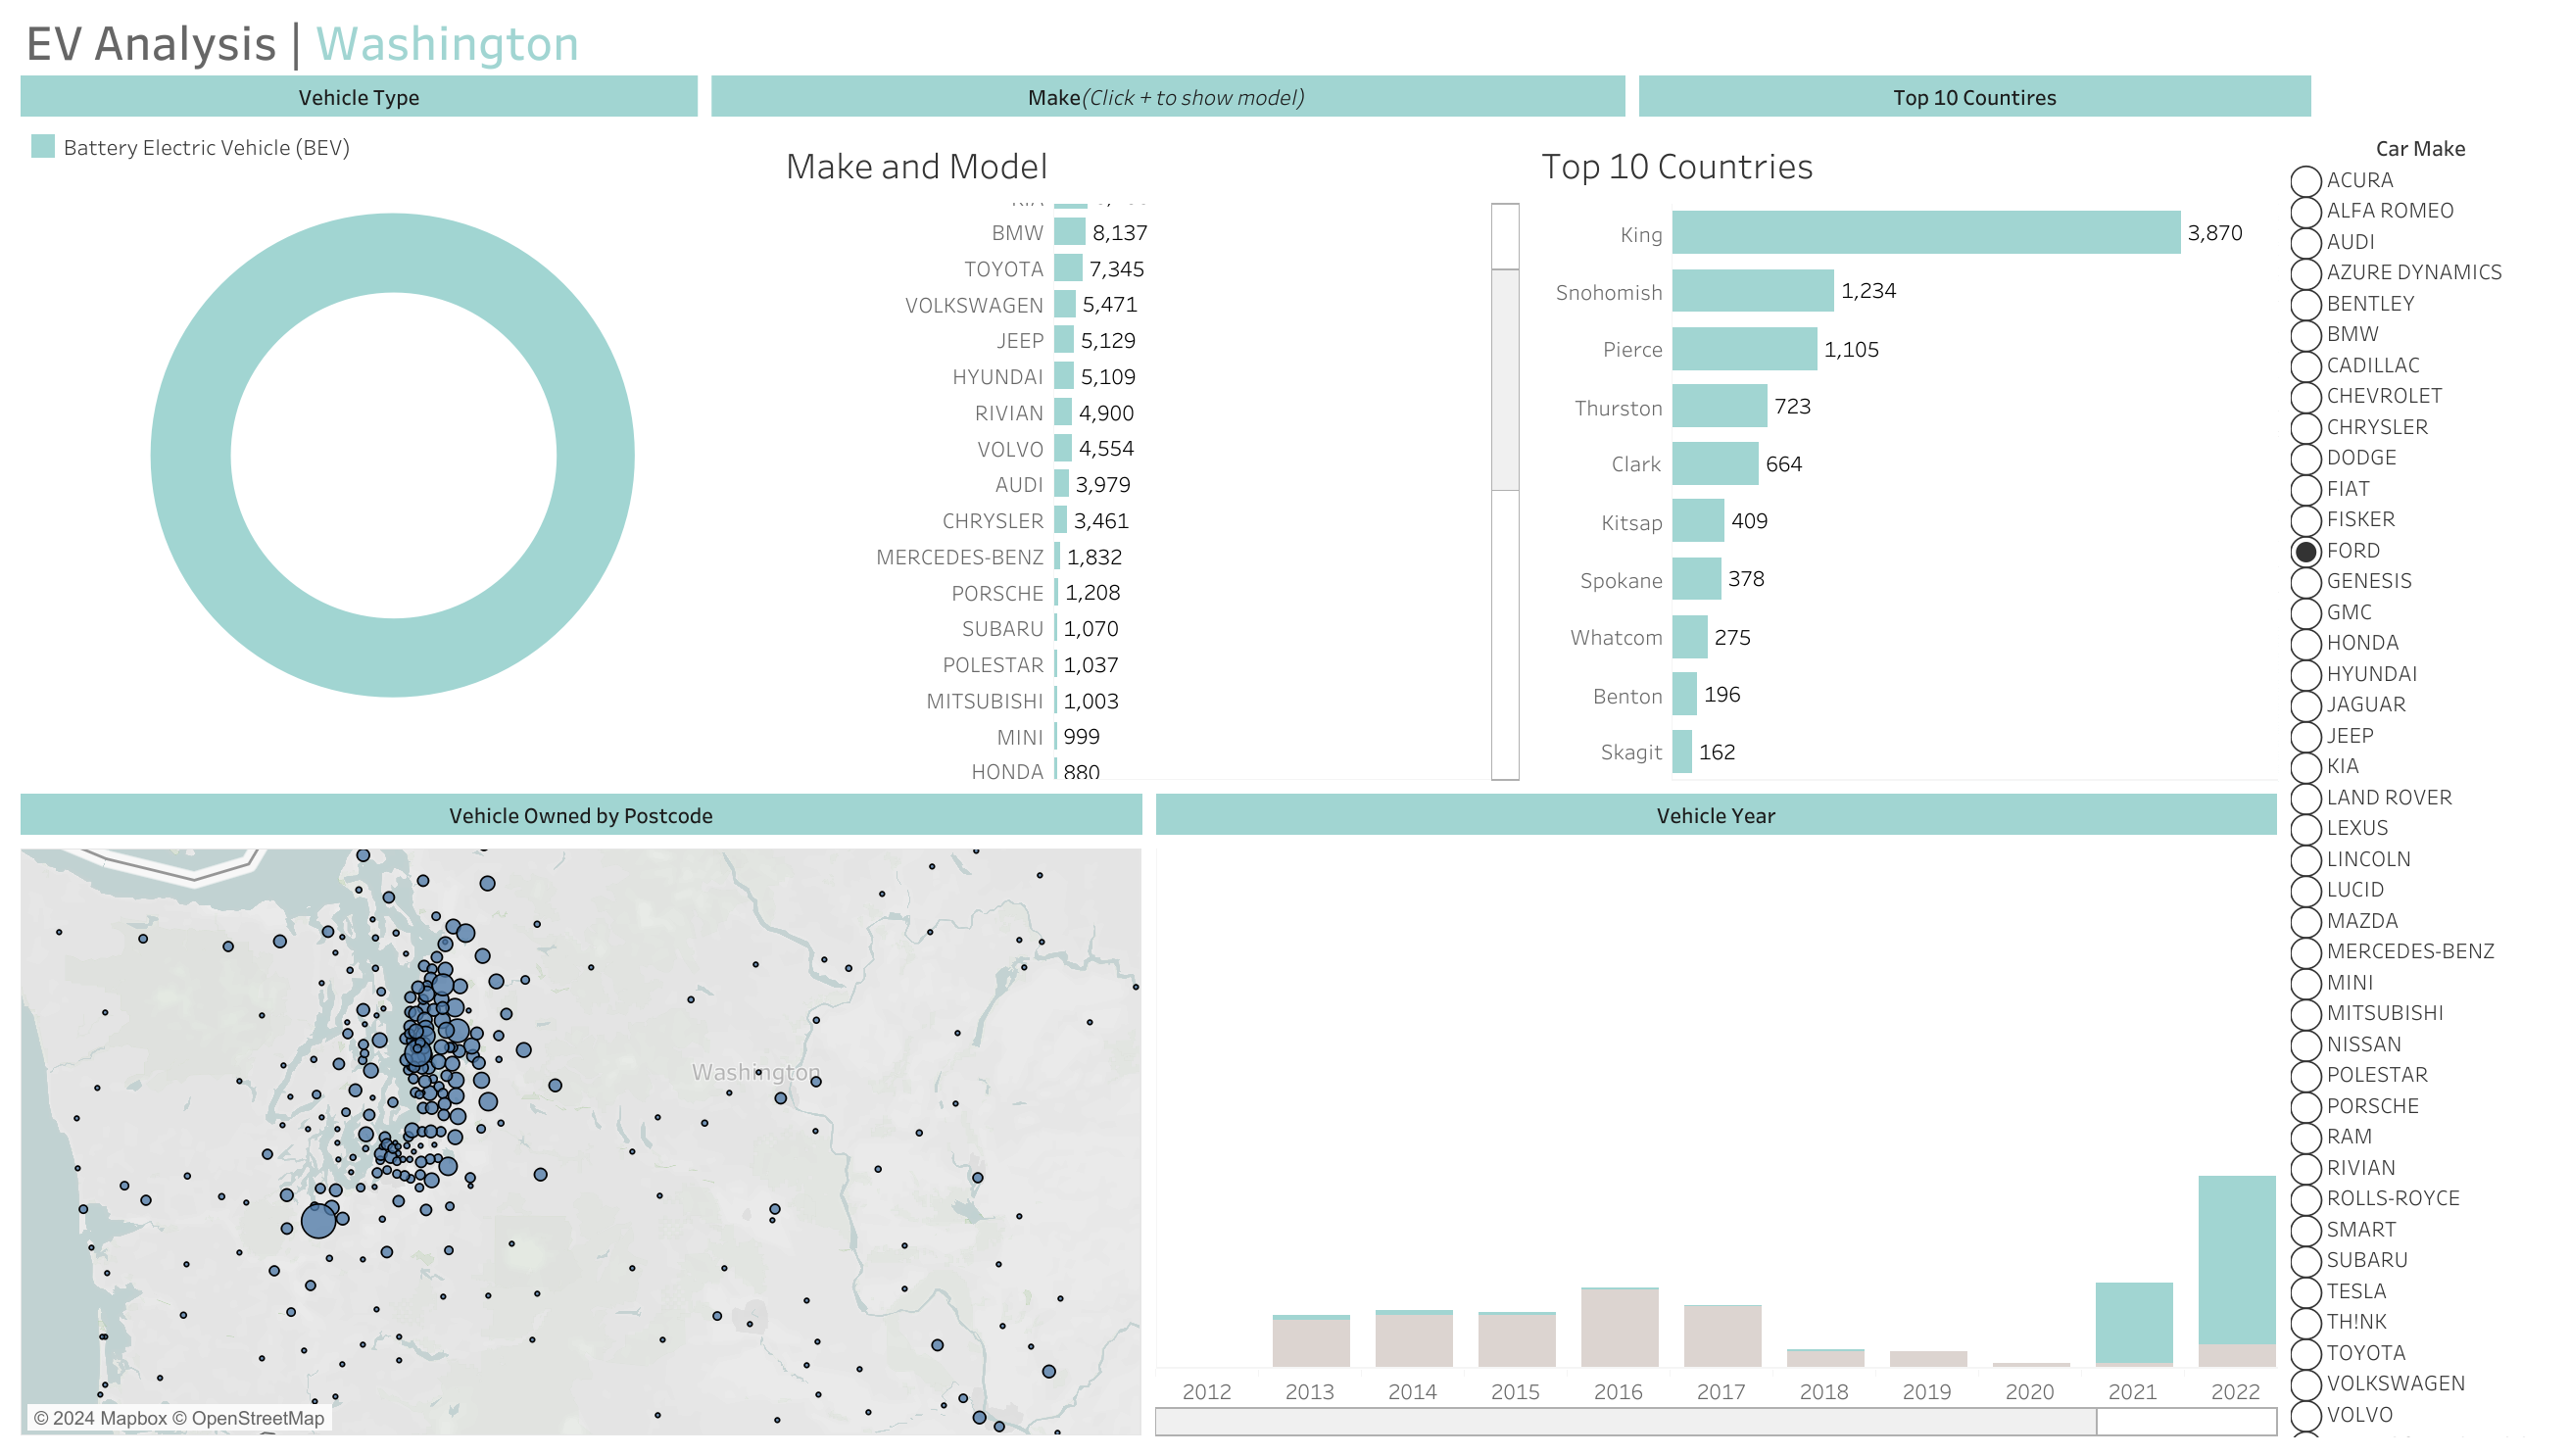

What the dashboard file says about the page in this screenshot:
{"tool":"tableau","page":{"name":"Dashboard 1","canvas":[1500,850],"ordinal":0},"visuals":[{"type":"text","box":[8,8,1484,32.4]},{"type":"text","box":[8,40.4,403.1,31.6]},{"type":"text","box":[411.1,40.4,540.4,31.6]},{"type":"text","box":[951.5,40.4,400.2,31.6]},{"type":"worksheet","title":"Vehicle Type Donut","mark":"Pie","rows":["Calculation_160440786701037568","Calculation_160440786701037568"],"box":[8,72,442,387]},{"type":"worksheet","title":"Make and Model","mark":"Automatic","rows":["Make"],"cols":["DOL Vehicle ID"],"box":[450,72,441,387]},{"type":"worksheet","title":"Top 10 Countries","mark":"Automatic","rows":["County"],"cols":["DOL Vehicle ID"],"box":[891,72,441,387]},{"type":"parameter","param":"[Parameters].[Parameter 1]","box":[1332,72,160,770]},{"type":"legend","title":"Vehicle Type Donut","param":"[federated.0wzga461d5au9513mcy6o1w0vsrx].[none:Electric Vehicle Type:nk]","box":[15,75,194,41]},{"type":"text","box":[8,458.6,661.9,32.1]},{"type":"text","box":[669.9,458.6,662.1,32.1]},{"type":"worksheet","title":"Map","mark":"Automatic","box":[8,490.7,661.9,351.3]},{"type":"worksheet","title":"Year and Type","mark":"Bar","rows":["DOL Vehicle ID"],"cols":["Model Year"],"box":[669.9,490.7,662.1,351.3]}]}

Visuals, with their boxes in screenshot pixels (x1, y1, x2, y2), scaled from the page's 1500x850 canvas onto the 2570x1456 screenshot:
text: 14,14,2556,70
text: 14,70,704,123
text: 704,70,1630,123
text: 1630,70,2316,123
"Vehicle Type Donut" worksheet (Pie marks): 14,123,771,786
"Make and Model" worksheet: 771,123,1527,786
"Top 10 Countries" worksheet: 1527,123,2282,786
parameter: 2282,123,2556,1442
"Vehicle Type Donut" legend: 25,128,358,199
text: 14,786,1147,841
text: 1147,786,2282,841
"Map" worksheet: 14,841,1147,1442
"Year and Type" worksheet (Bar marks): 1147,841,2282,1442
